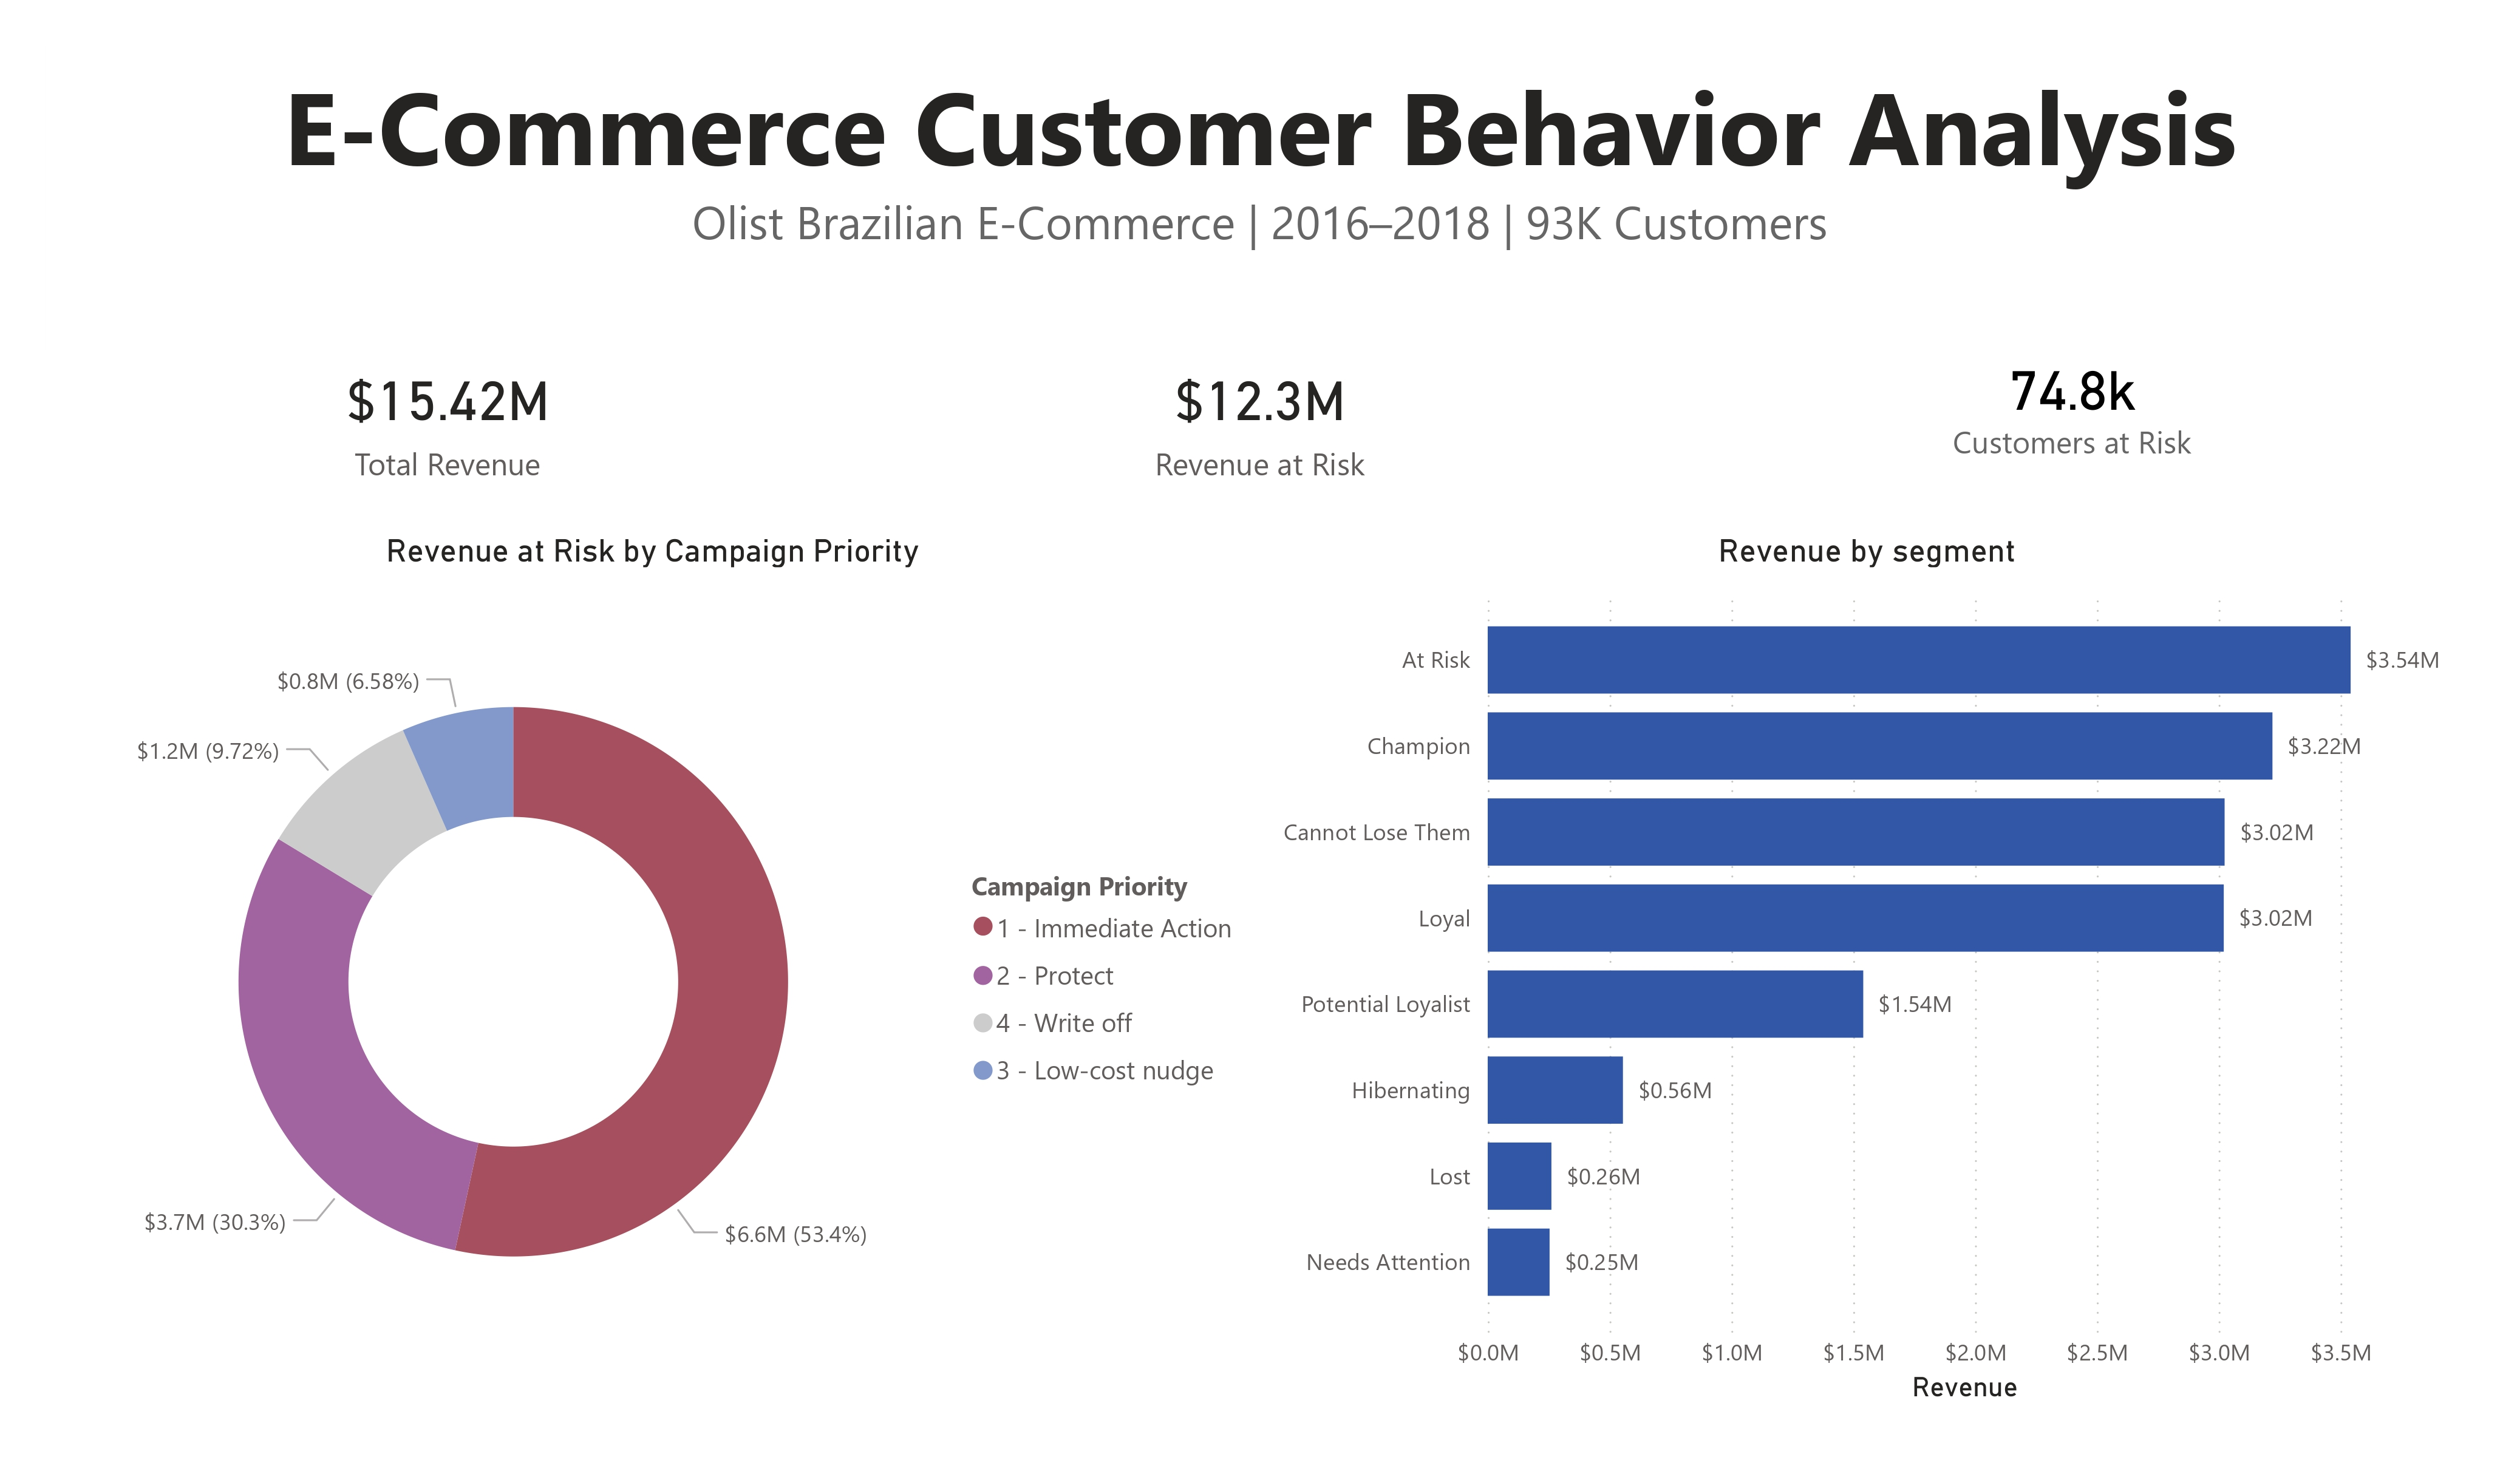

Layout of this report page (visuals, bound fields, positions):
{"tool":"powerbi","page":{"name":"executive summary","canvas":[1280,720],"ordinal":0},"visuals":[{"type":"card","title":"Total Revenue","fields":{"Values":["Sum(rfm_segments.total_revenue)"]},"box":[0,160,424,72],"z":0},{"type":"card","fields":{"Values":["Sum(revenue_at_risk.revenue_at_risk)"]},"box":[424,160,432,72],"z":1000},{"type":"textbox","box":[856,160,424,72],"z":2000},{"type":"donutChart","title":"Revenue at Risk by Campaign Priority","fields":{"Y":["Sum(revenue_at_risk.revenue_at_risk)"],"Category":["revenue_at_risk.campaign_priority"]},"box":[0,256,640,456],"z":3000},{"type":"clusteredBarChart","fields":{"Category":["rfm_segments.segment"],"Y":["Sum(rfm_segments.total_revenue)"]},"box":[640,256,640,464],"z":4000},{"type":"textbox","box":[0,0,1280,128],"z":5000}]}

Visuals, with their boxes on the page's 1280x720 design canvas (x1, y1, x2, y2). These are canvas units, not pixel positions in the 2520x1457 screenshot, which may show the page scaled, cropped or inside an application window:
"Total Revenue" card: <region>0, 160, 424, 232</region>
card - Sum(revenue_at_risk.revenue_at_risk): <region>424, 160, 856, 232</region>
textbox: <region>856, 160, 1280, 232</region>
"Revenue at Risk by Campaign Priority" donutChart: <region>0, 256, 640, 712</region>
clusteredBarChart - rfm_segments.segment x Sum(rfm_segments.total_revenue): <region>640, 256, 1280, 720</region>
textbox: <region>0, 0, 1280, 128</region>
